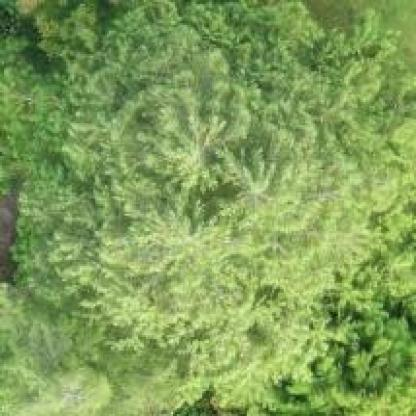Coniferous Tree: (19, 17, 409, 395)
